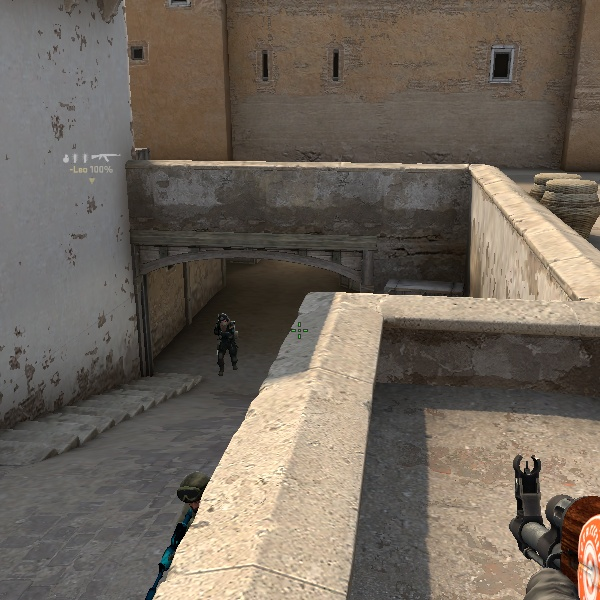ct_body: (207, 310, 243, 374)
